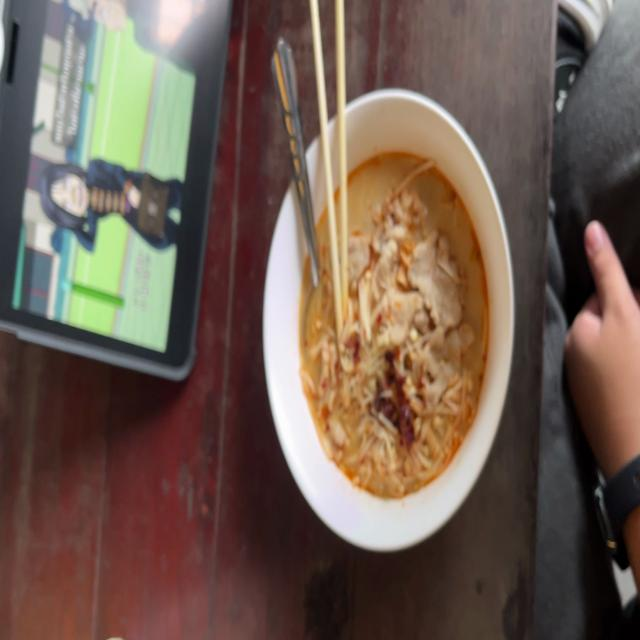noodle: (302, 152, 499, 507)
